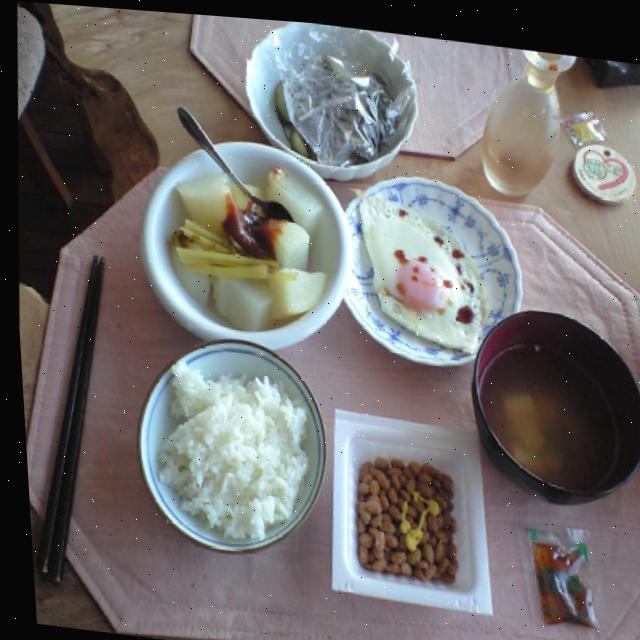米饭主食: (101, 317, 340, 559)
